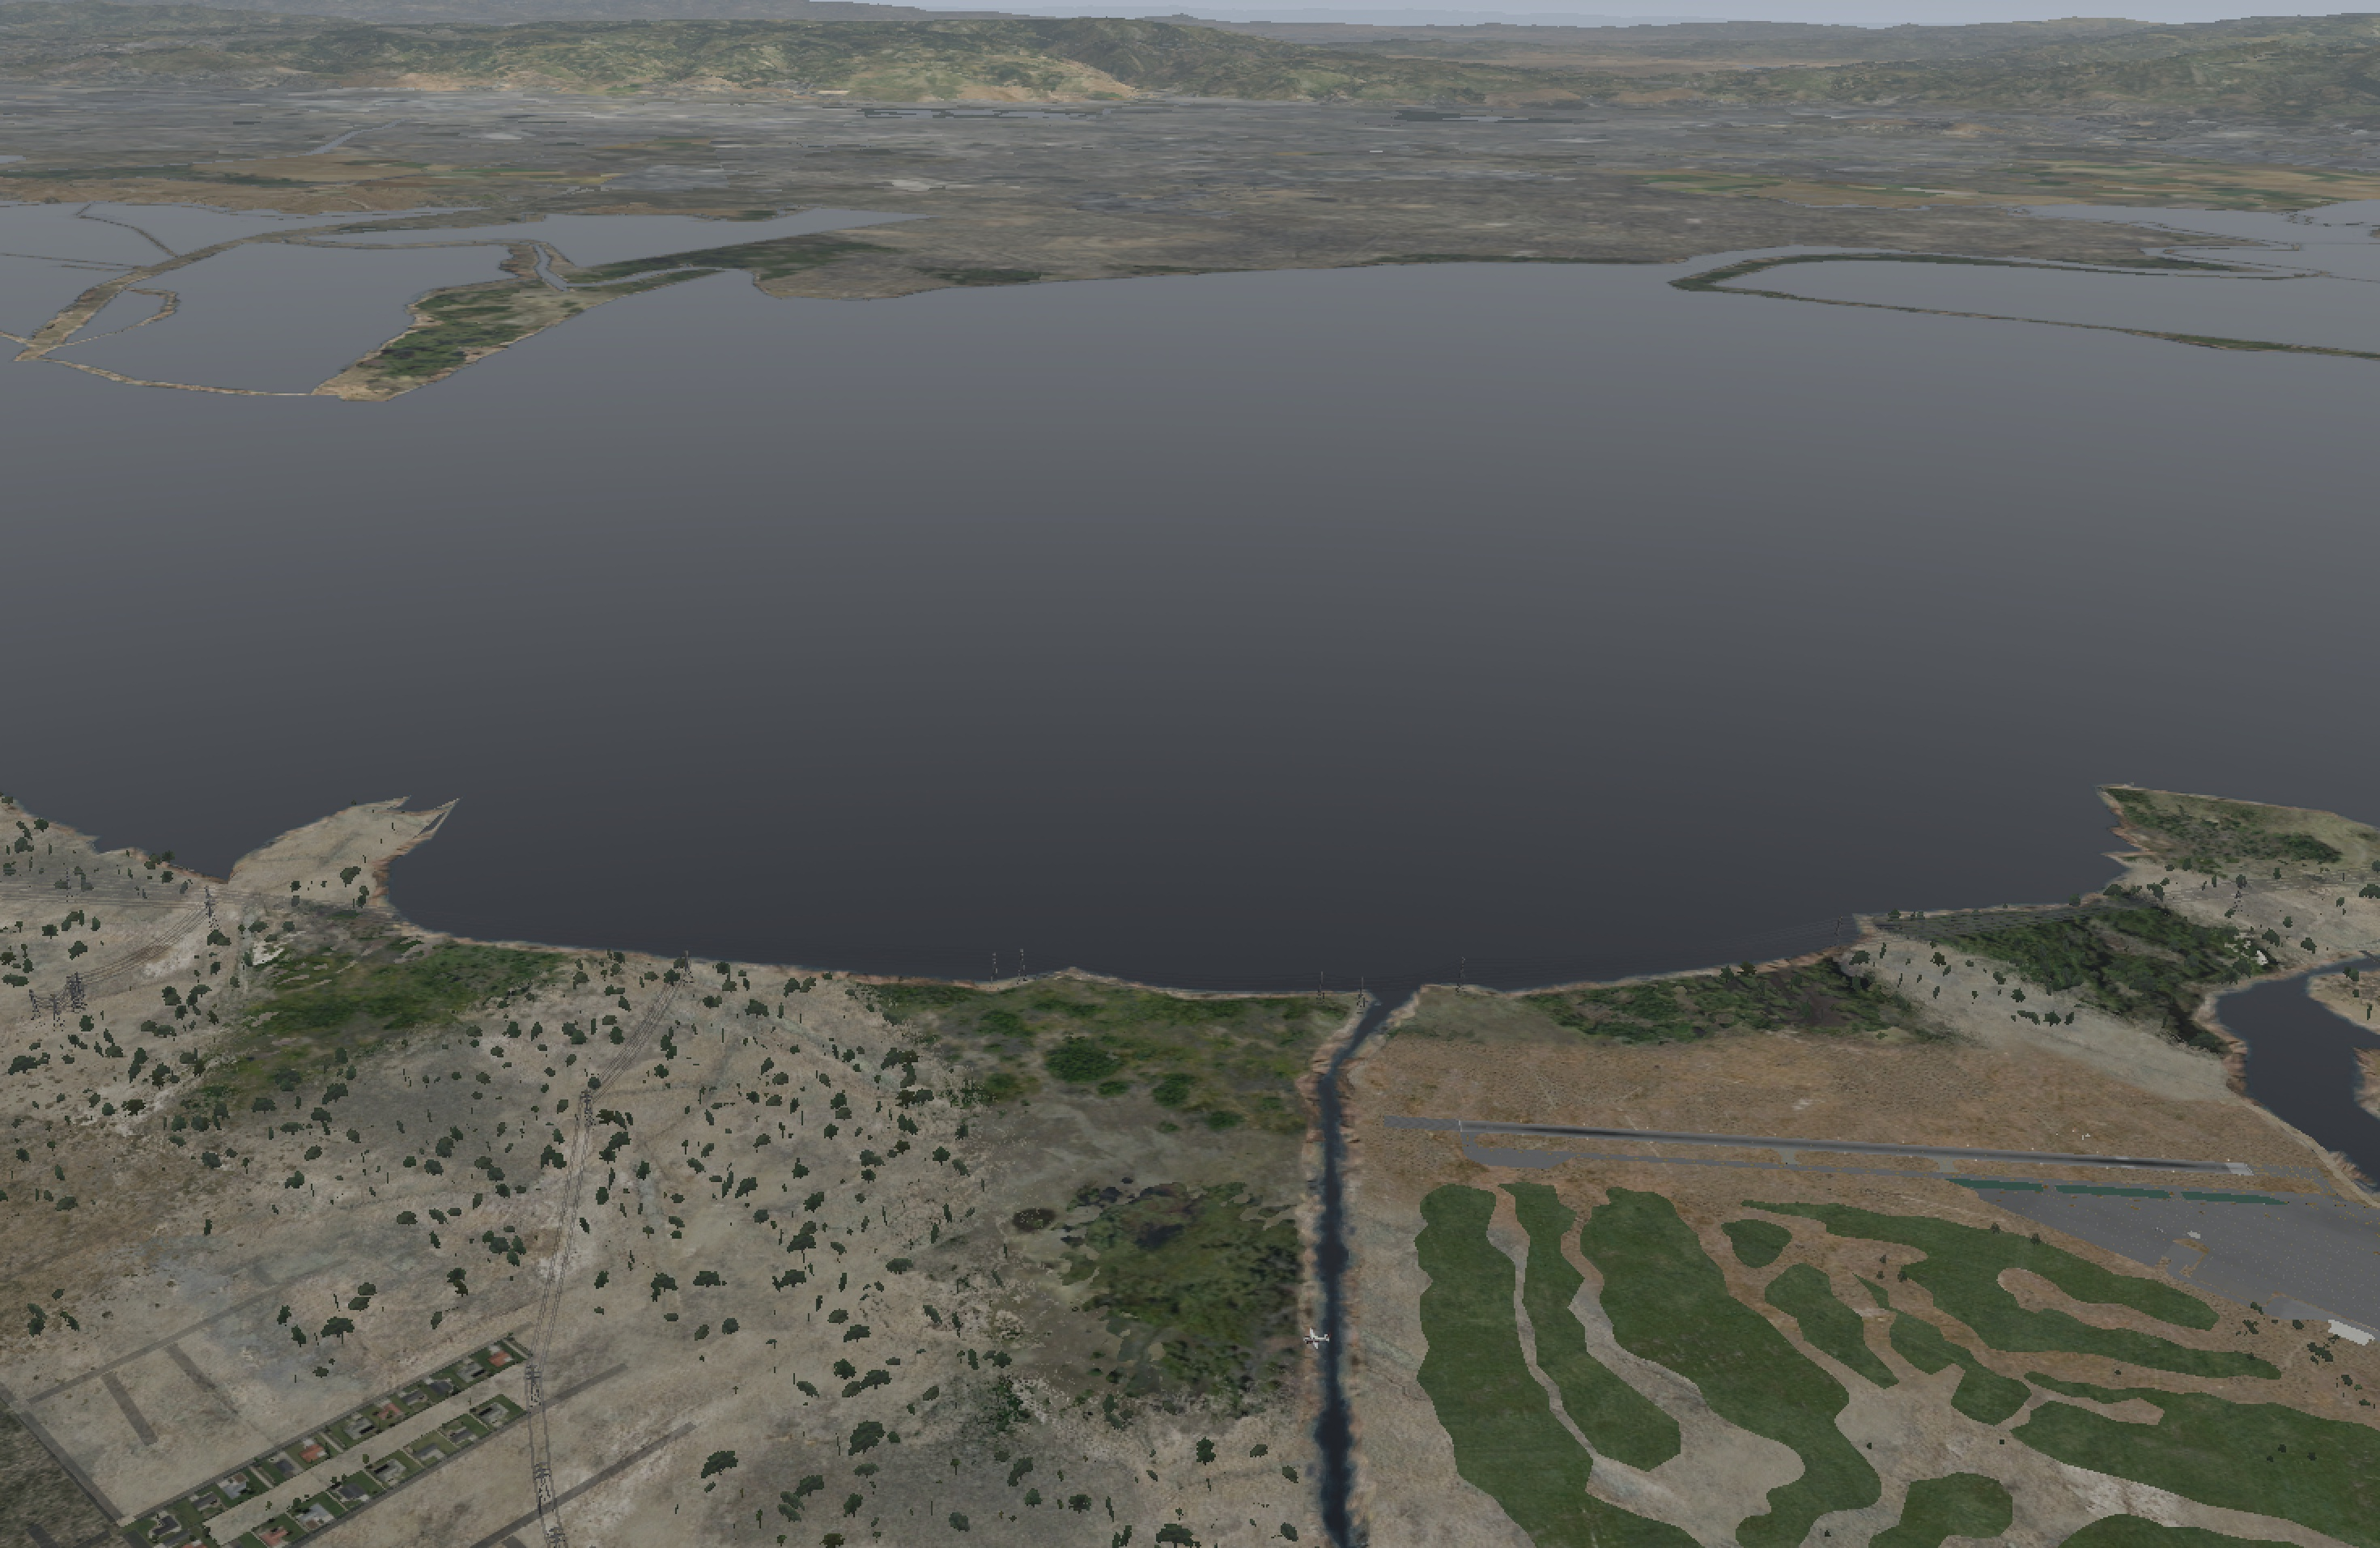aircraft: (1292, 1333, 1332, 1348)
